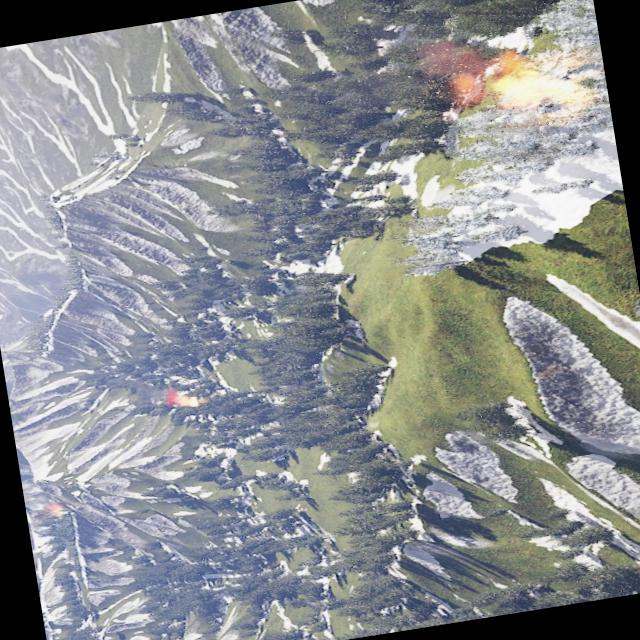fire: (490, 54, 600, 128), (166, 386, 198, 410), (48, 500, 68, 516)
smoke: (412, 26, 524, 110)
